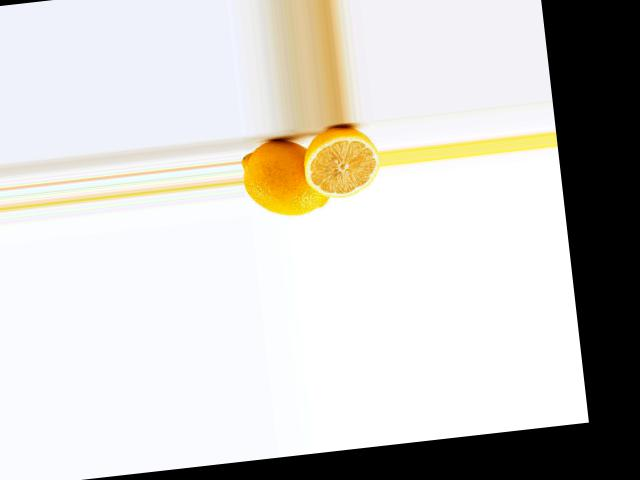lemon: (241, 129, 333, 222)
